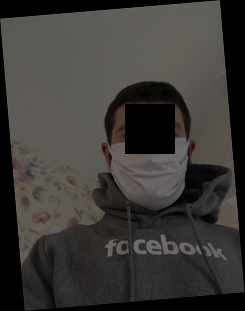with_mask: (110, 114, 189, 208)
